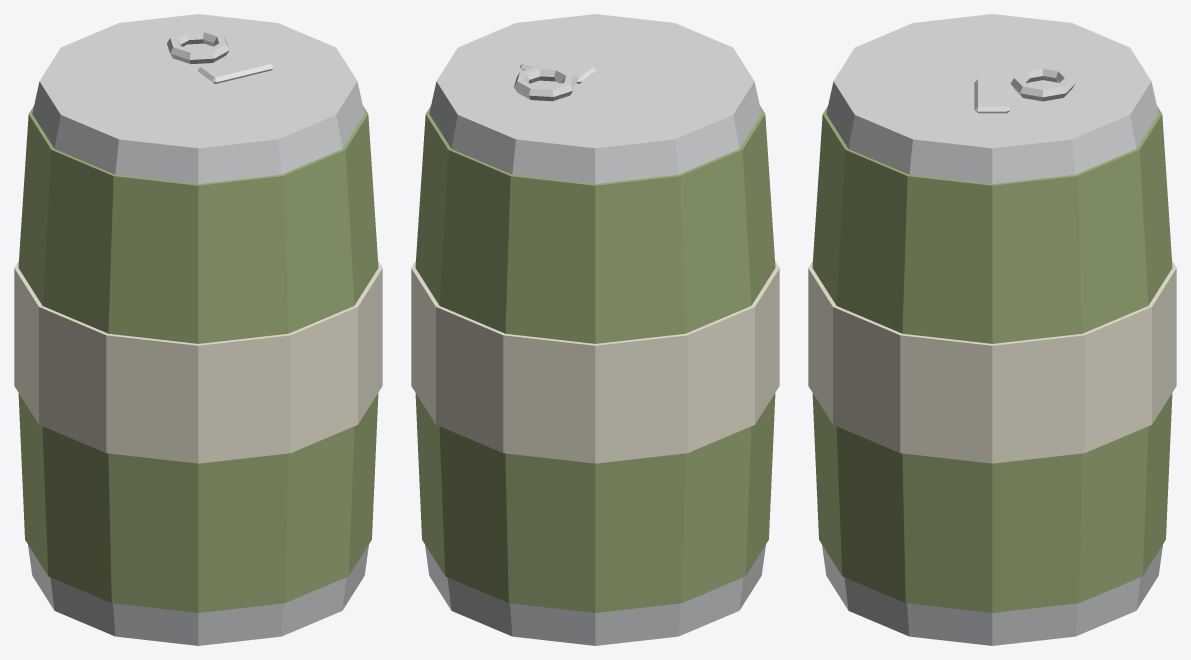
The model's file is beer.glb.
3 views of the same model, side by side, from view 1: azimuth 30°, elevation 25°; view 2: azimuth 150°, elevation 25°; view 3: azimuth 270°, elevation 25° (orthographic).
Parts seen in each view (by area): view 1: BodyHigh, BodyLow, Stripe, Lid, Base, Ring, Tab; view 2: BodyHigh, BodyLow, Stripe, Lid, Base, Ring, Tab; view 3: BodyHigh, BodyLow, Stripe, Lid, Base, Ring, Tab.
Boxes of the visible parts, x1,y1,x2,y2 form: BodyHigh: (18,106,378,343); BodyLow: (18,393,378,612); Stripe: (14,261,382,463); Lid: (32,14,364,183); Base: (28,545,368,645); Ring: (167,29,229,64); Tab: (198,53,274,83); BodyHigh: (415,106,775,343); BodyLow: (415,393,775,612); Stripe: (411,261,779,463); Lid: (429,14,761,183); Base: (425,545,765,645); Ring: (514,66,576,101); Tab: (519,53,595,83); BodyHigh: (812,106,1172,343); BodyLow: (812,393,1172,612); Stripe: (808,261,1176,463); Lid: (826,14,1158,183); Base: (822,545,1162,645); Ring: (1010,65,1075,101); Tab: (974,79,1010,113).
Bounding box in the file's own units: 0.102 × 0.1557 × 0.102.
